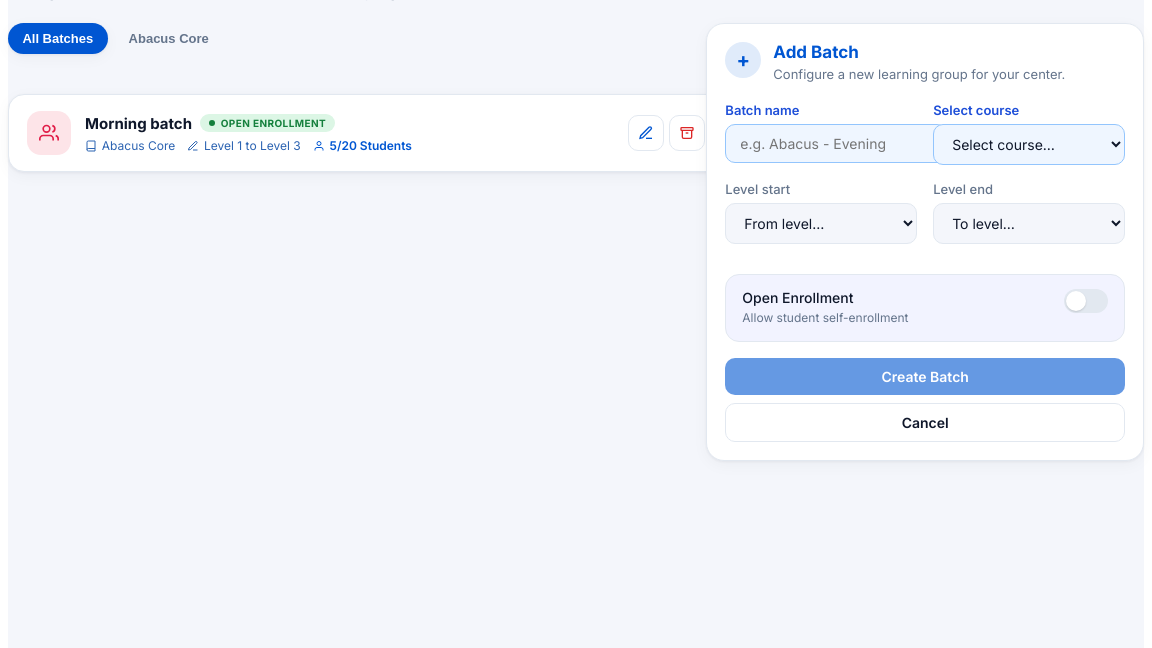
Scenario: BatchesPage › regression_edit_opens_batch_form_with_existing_values
Check: the text "Morning batch" is shown, box top-left (85, 114), bottom-right (192, 133)
Click the button named "Edit Morning batch": (646, 134) top-left (628, 116), bottom-right (664, 152)
(page scrolled)
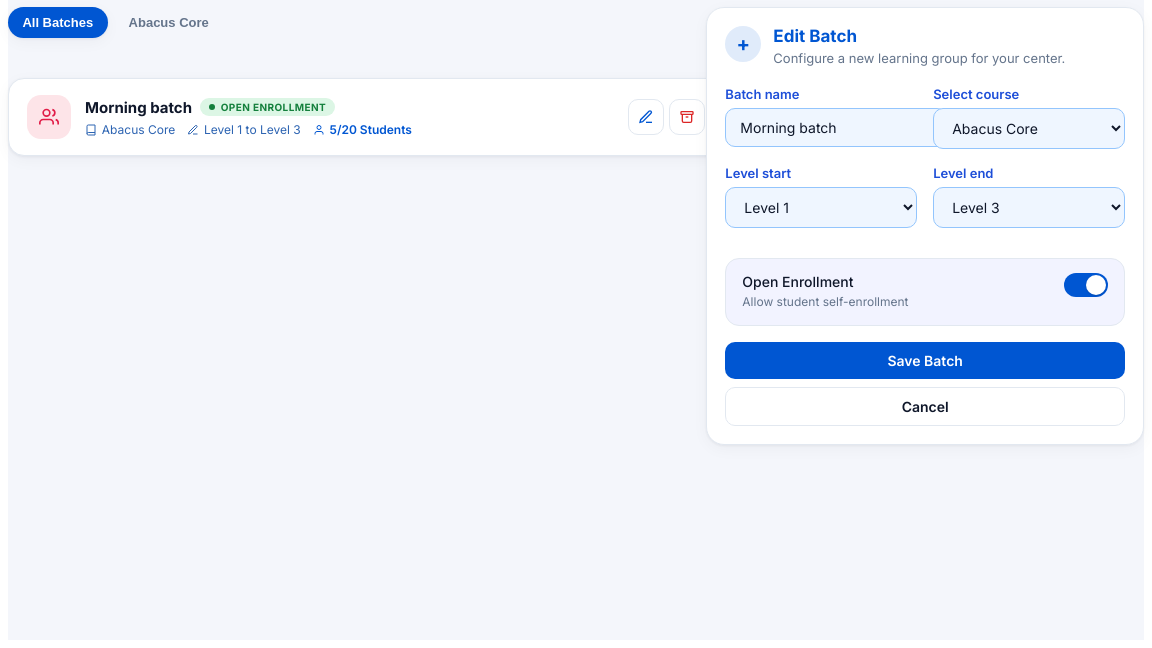
Check: the heading "Edit Batch" is shown, box top-left (773, 26), bottom-right (857, 46)
Check: the field showing "Morning batch" is shown, box top-left (725, 108), bottom-right (947, 147)
Check: the button "Save Batch" is shown, box top-left (725, 342), bottom-right (1125, 379)
